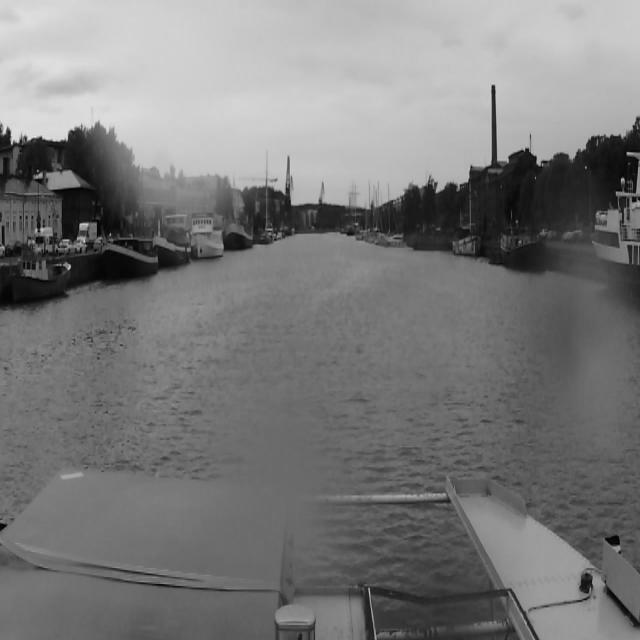ship: (10, 178, 72, 308), (590, 148, 640, 302), (102, 238, 158, 284), (499, 226, 545, 271), (192, 212, 224, 258), (158, 226, 191, 268), (224, 214, 254, 251), (452, 225, 482, 259), (406, 230, 442, 252), (402, 226, 429, 246)
